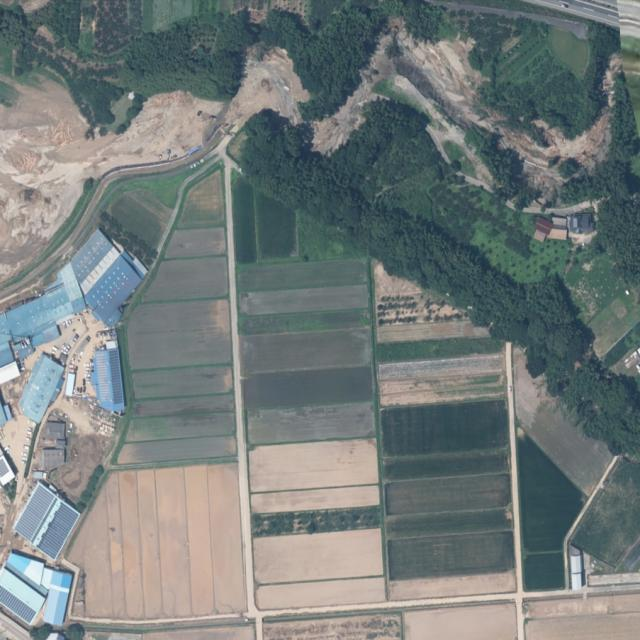landslide: (0, 47, 308, 286), (313, 20, 610, 197)
